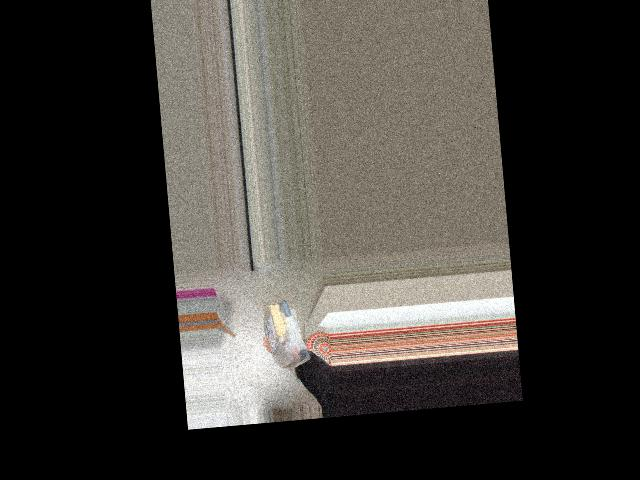cheese: (261, 295, 316, 369)
